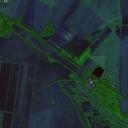alloviz: (91, 64, 104, 79)
